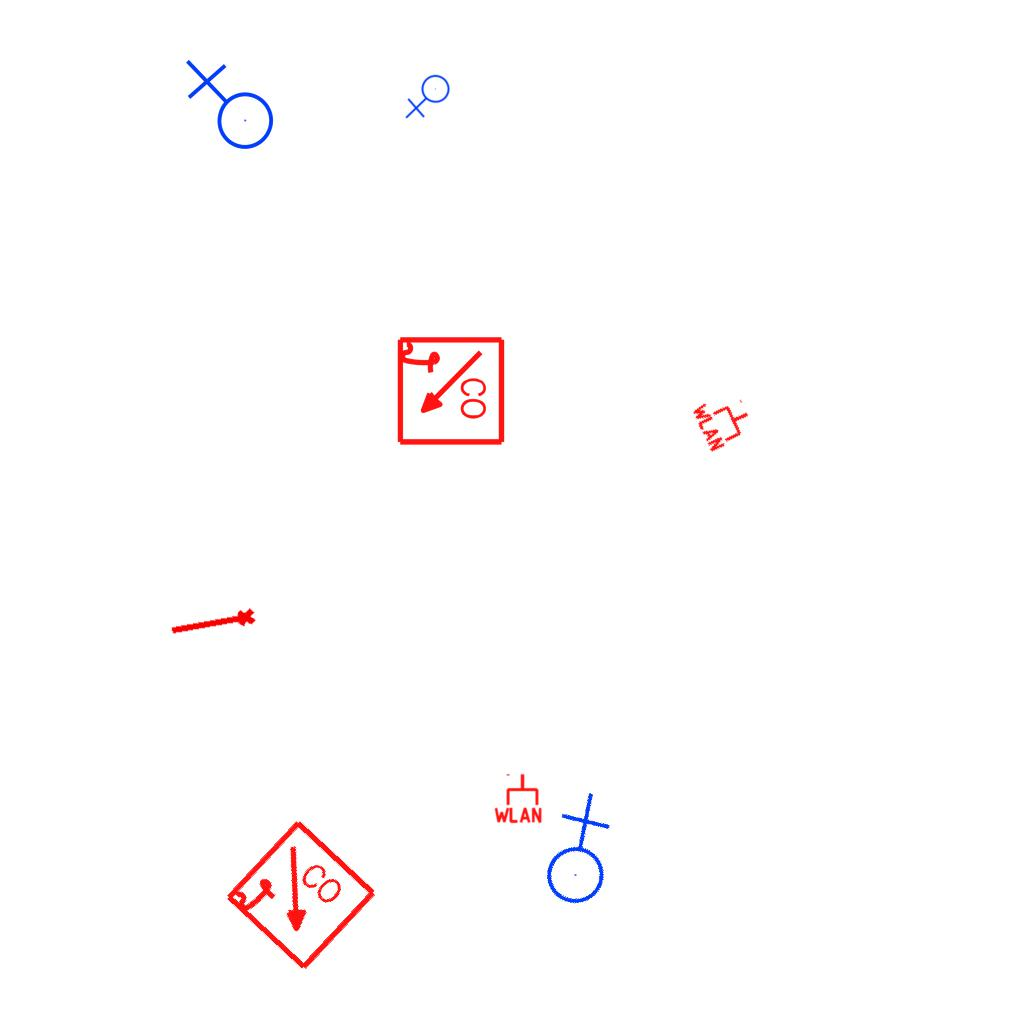ASR_Ansaugoeffnung: (167, 605, 259, 644)
Elektroanschluss_allgemein_230V_Geraeteanschlussdose_230V: (507, 787, 644, 921), (181, 59, 275, 158), (405, 74, 454, 121)
ROA_Rauchmelder_optisch_mit_Signalgeber_(Sockelsirene): (220, 816, 381, 977), (393, 335, 506, 448)
WLAN: (689, 385, 759, 455), (492, 772, 544, 824)
